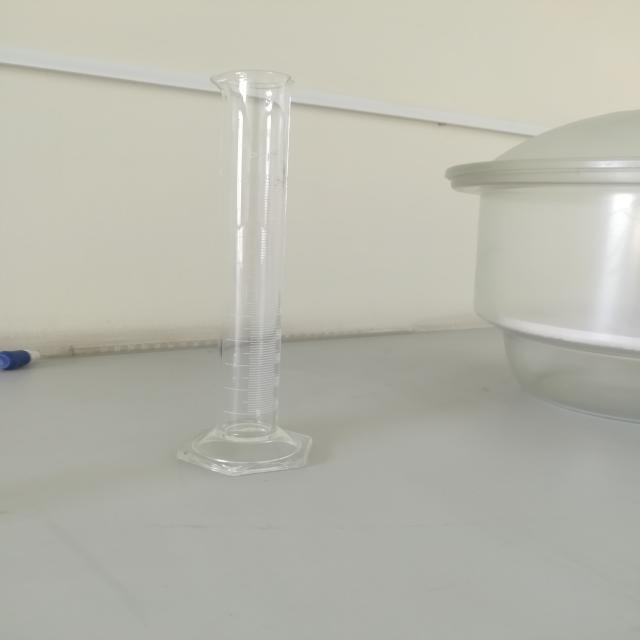Measuring_Cylinder: (162, 29, 346, 506)
